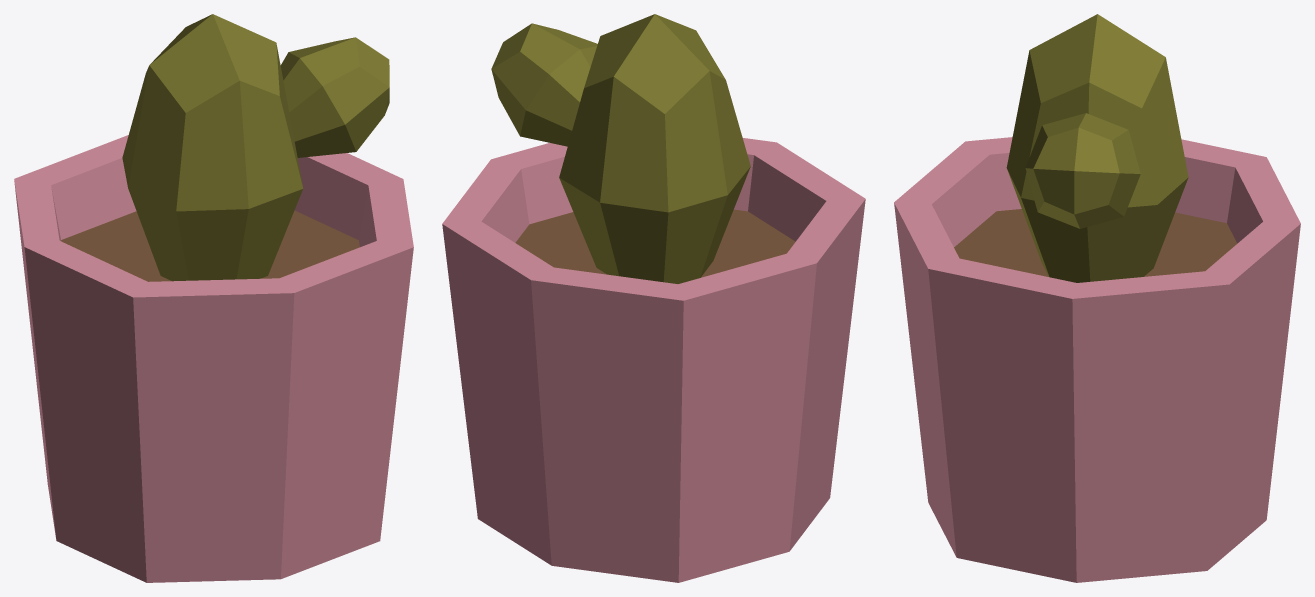
The model's file is Cactus_4.fbx.
The picture shows the model from 3 angles, left to right: view 1: azimuth 30°, elevation 25°; view 2: azimuth 150°, elevation 25°; view 3: azimuth 270°, elevation 25°; orthographic projection.
Parts seen in each view (by area): view 1: Cactus_4; view 2: Cactus_4; view 3: Cactus_4.
Boxes of the visible parts, x1=… form: Cactus_4: x1=14, y1=14, x2=413, y2=582; Cactus_4: x1=442, y1=14, x2=865, y2=582; Cactus_4: x1=894, y1=14, x2=1300, y2=582.
Bounding box in the file's own units: 15.39 × 15.39 × 20.74.
